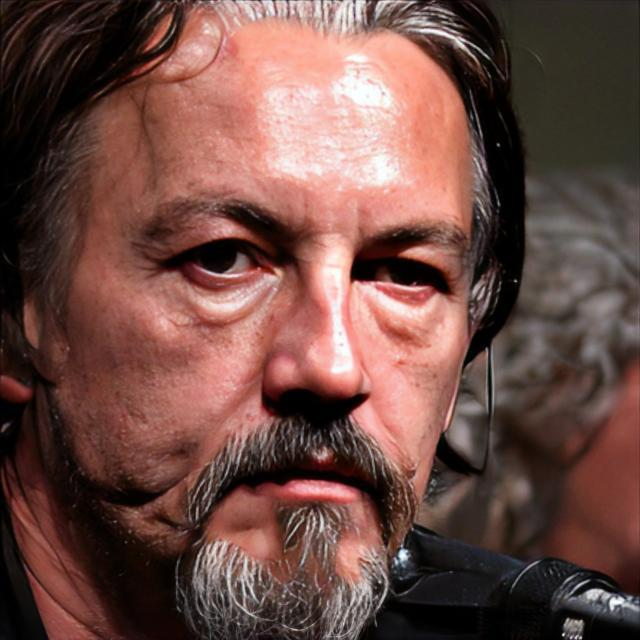anger: (72, 53, 476, 610)
